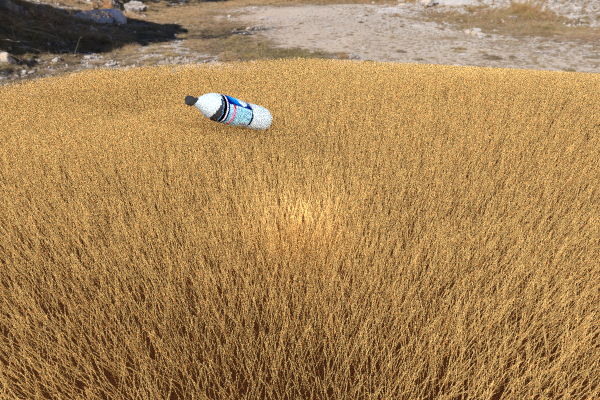Plastic Bottle: (184, 92, 272, 130)
